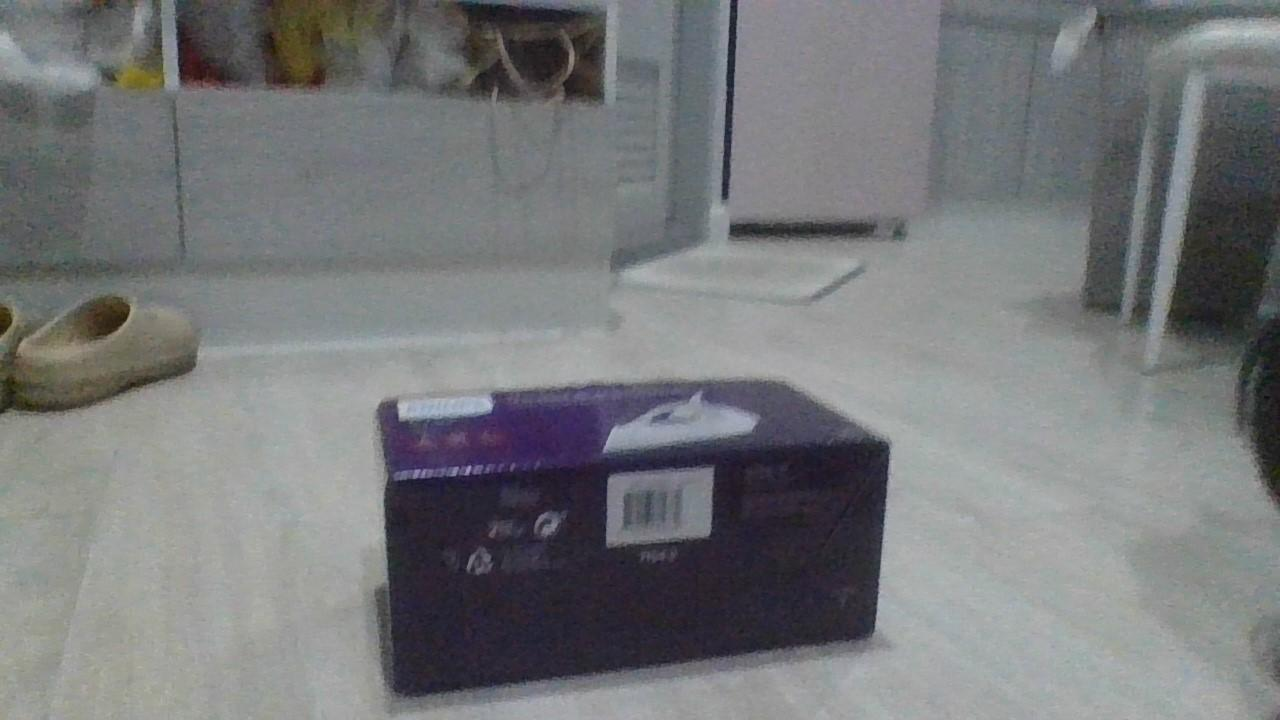IRON: (369, 372, 895, 698)
